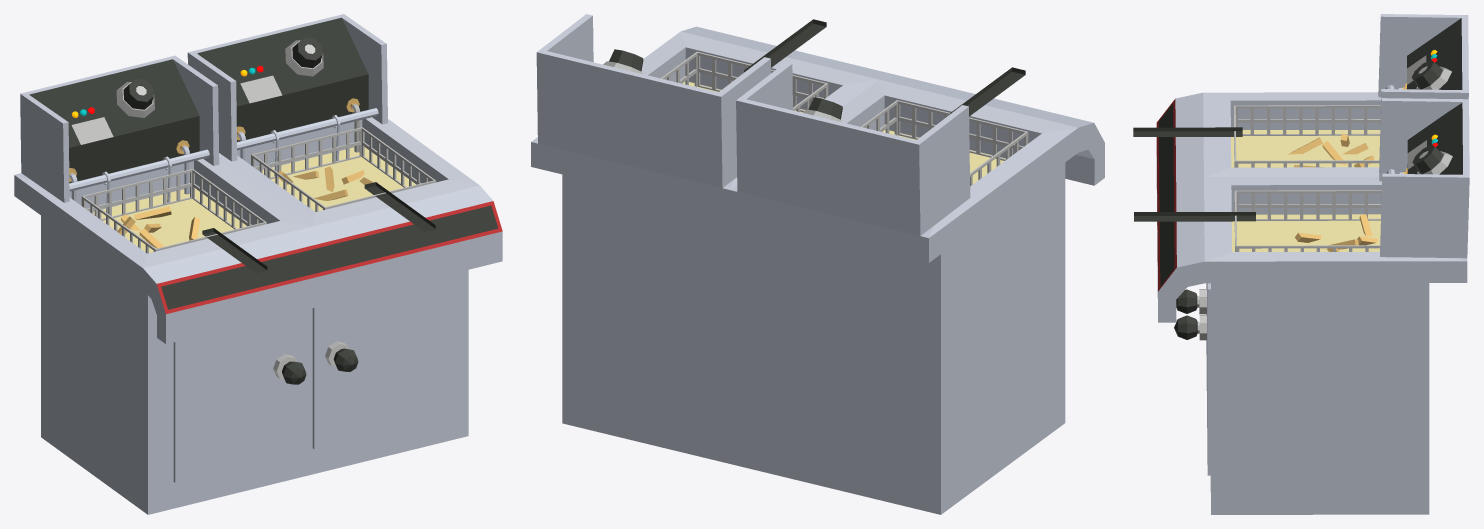
The model's file is Deep_Fat_Fryer.glb.
3 renders of one model, left to right at view 1: azimuth 30°, elevation 25°; view 2: azimuth 150°, elevation 25°; view 3: azimuth 270°, elevation 25°, orthographic. The views are drawn at different scales.
Parts seen in each view (by area): view 1: Deep_Fat_Fryer; view 2: Deep_Fat_Fryer; view 3: Deep_Fat_Fryer.
Boxes of the visible parts, box(x1,y1,x2,y2) form: Deep_Fat_Fryer: box(14, 14, 502, 514); Deep_Fat_Fryer: box(531, 14, 1104, 514); Deep_Fat_Fryer: box(1133, 14, 1469, 514).
Size of what is drawn, in the model's own units: 1.45 by 1.36 by 1.22.
1 material, 1 textured.
